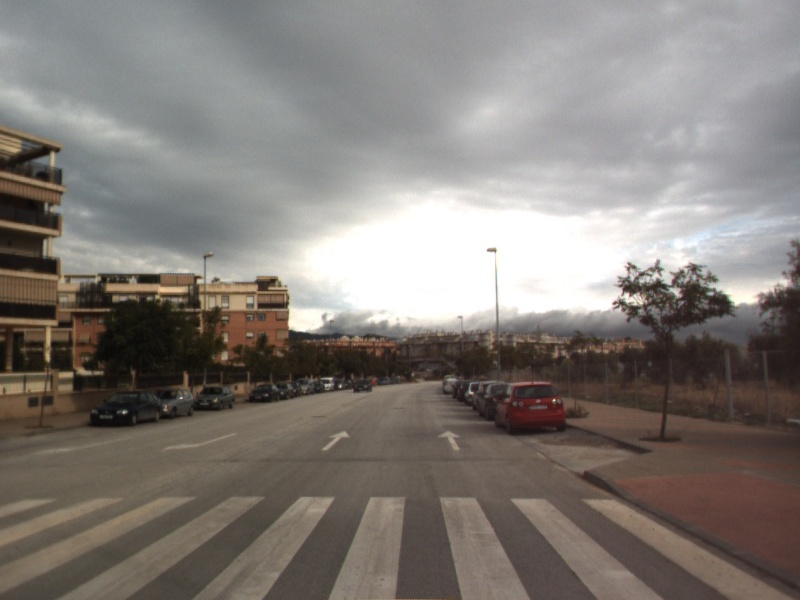STRAIGHT: (320, 429, 352, 452), (435, 428, 463, 452)
